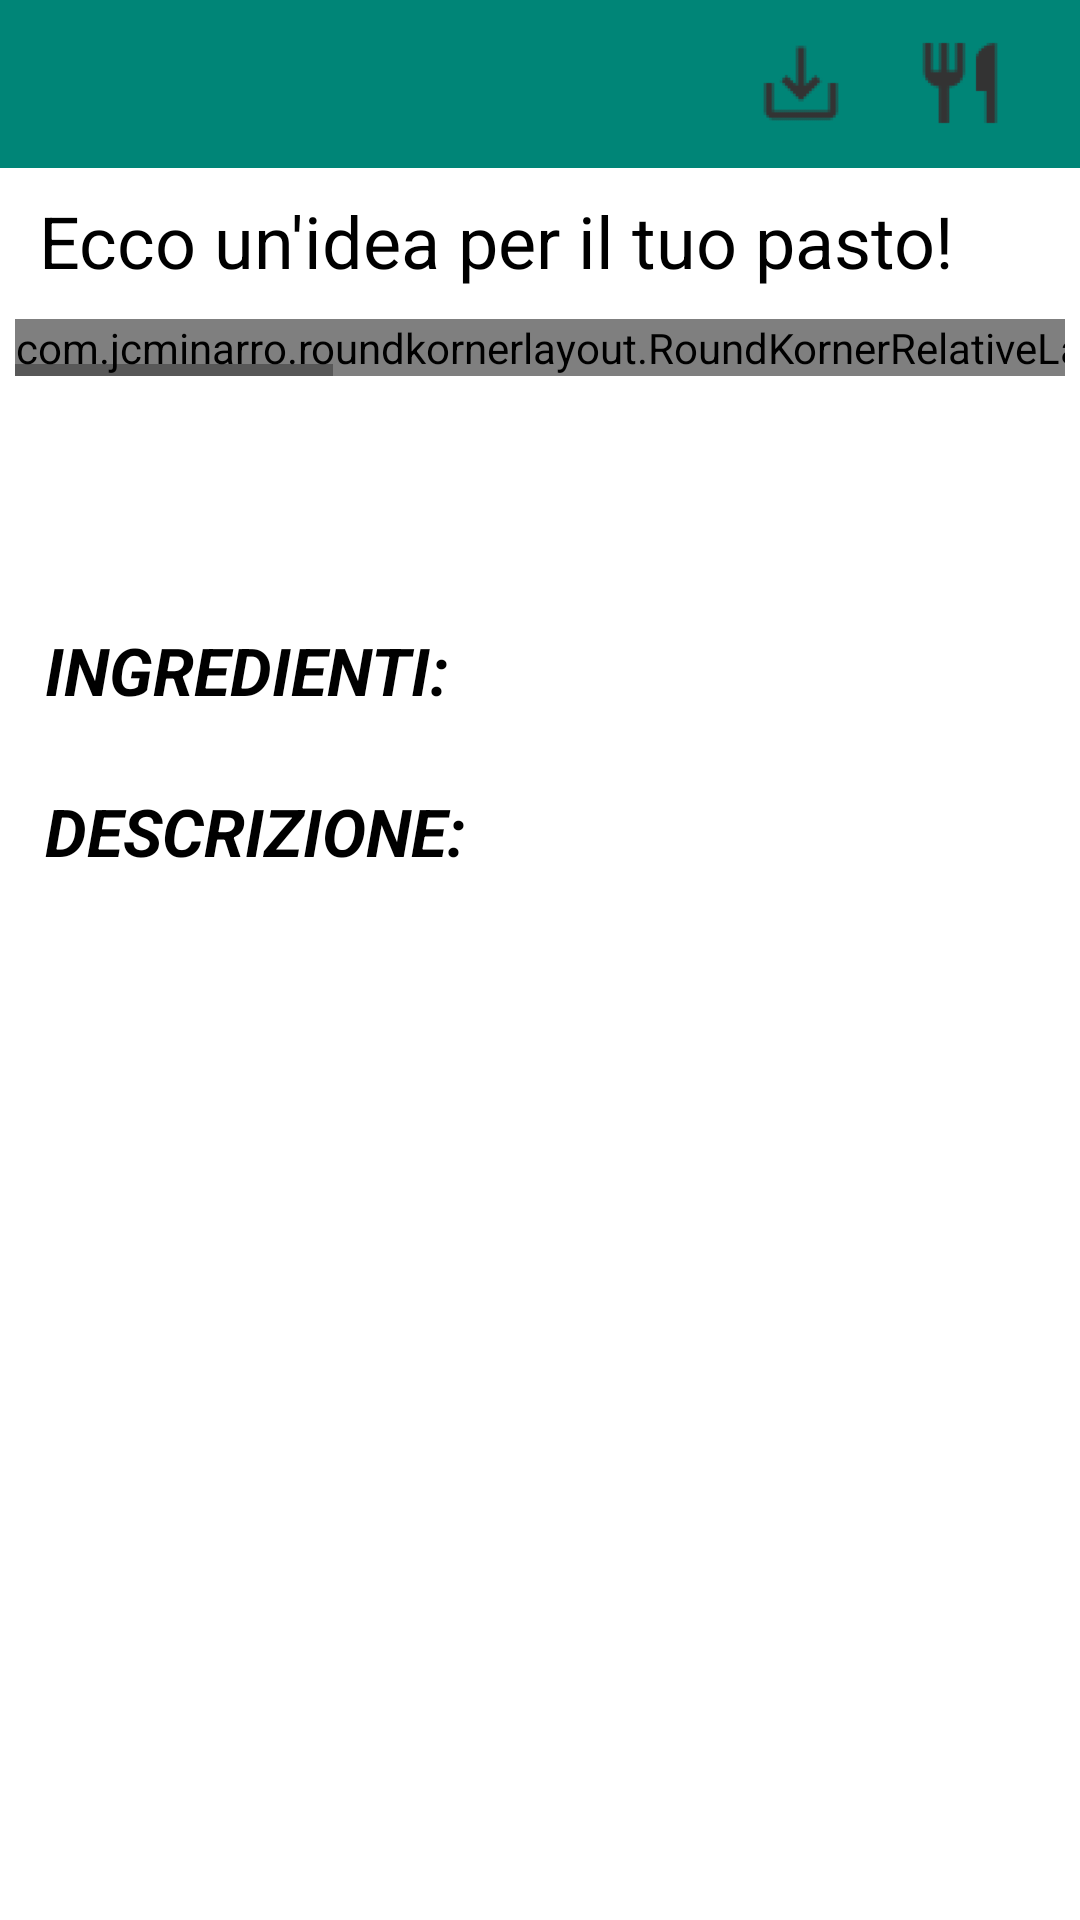

Icon bounding boxes for this 1080 x 1920 phone screenshot, format box(x1, y1, x2, y2):
save: box(764, 46, 838, 120)
